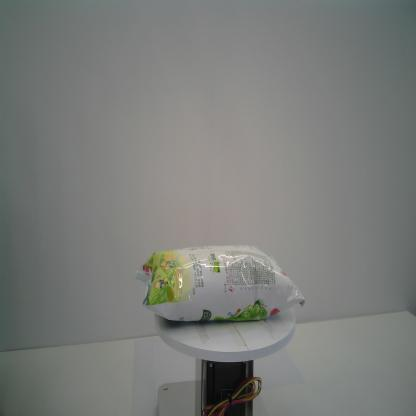Puffed Food: (135, 243, 306, 322)
